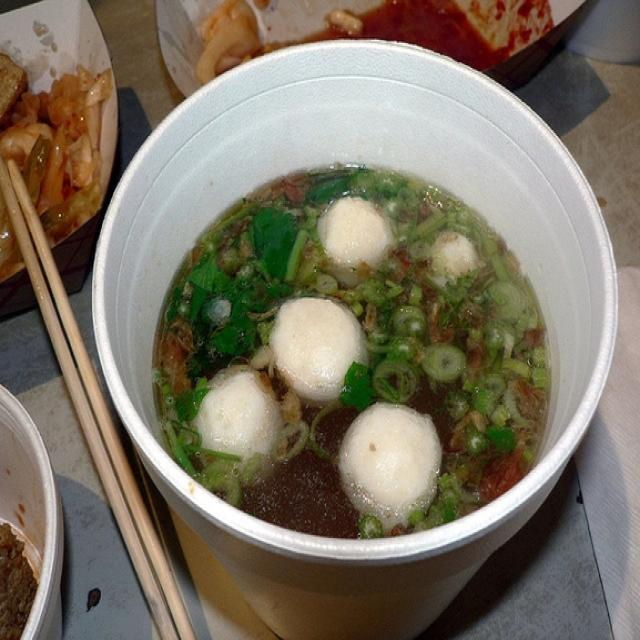熟制海鲜: (182, 167, 531, 551)
